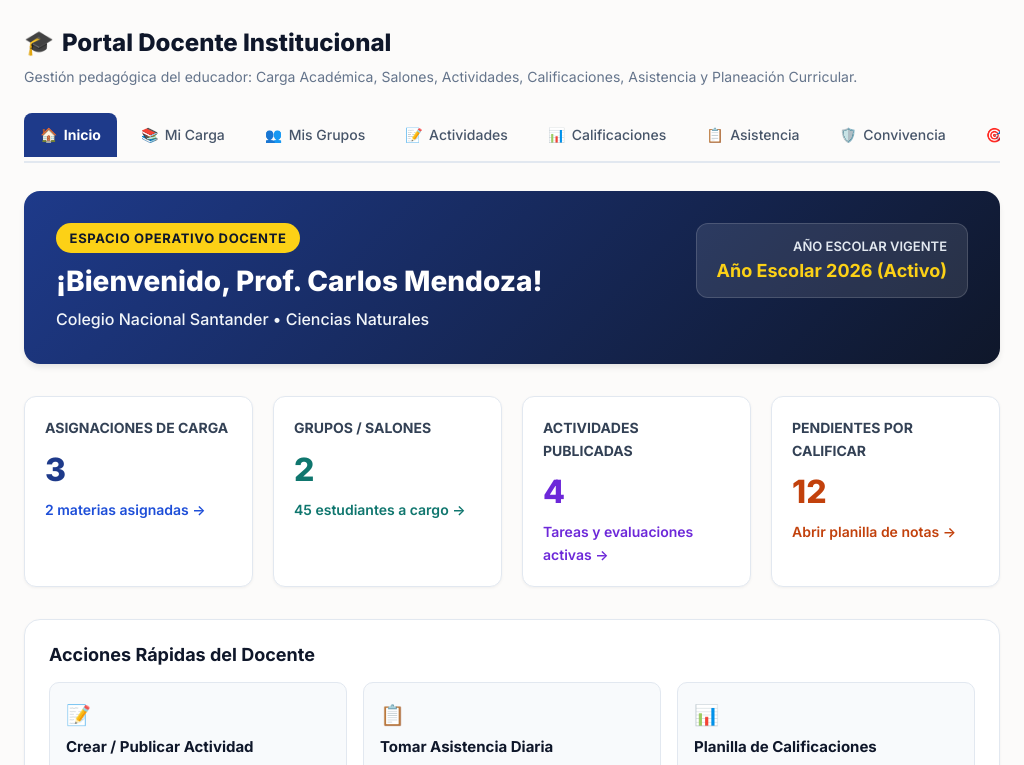
Scenario: TeacherPortal Component Tests › navigates to Mis Grupos and opens official student roster modal
The image size is (1024, 765).
Expected: the heading "¡Bienvenido, Prof. Carlos Mendoza!" is shown, [56, 265, 542, 299]
Click the button "👥 Mis Grupos" at (315, 135), box [249, 113, 381, 157]
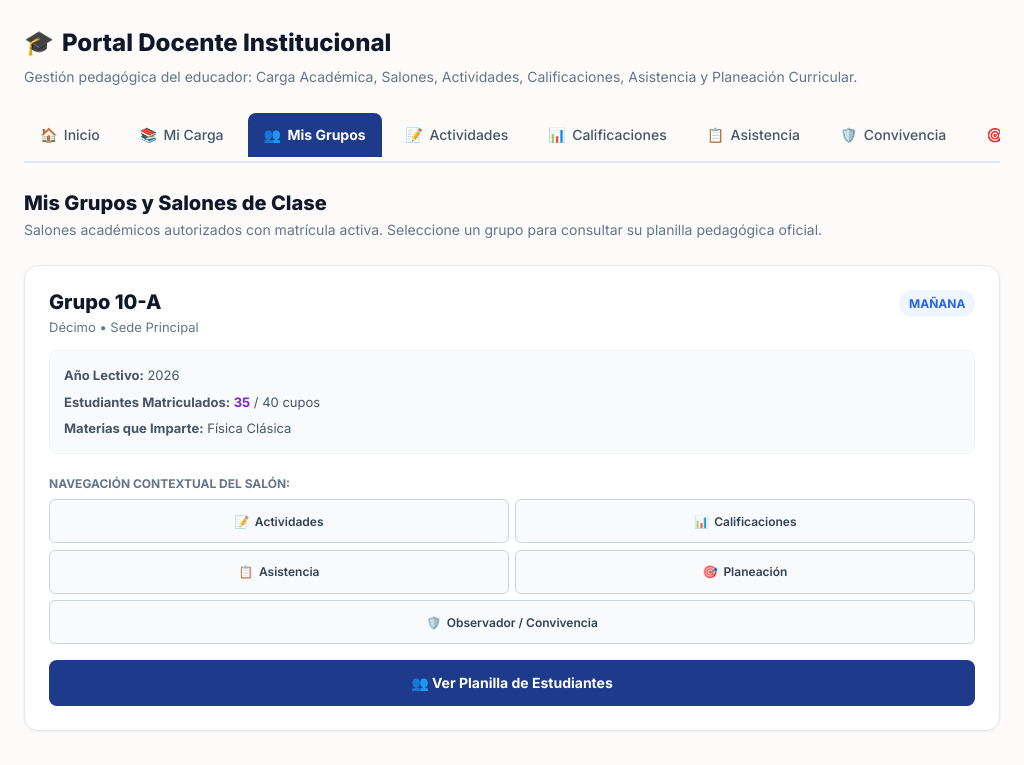
Expected: the heading "Mis Grupos y Salones de Clase" is shown, [24, 191, 327, 215]
Expected: the heading "Grupo 10-A" is shown, [49, 290, 162, 314]
Expected: the button with test id "btn-open-roster" is shown
// Open Roster
Click the button with test id "btn-open-roster" at (512, 683), box [49, 660, 975, 706]
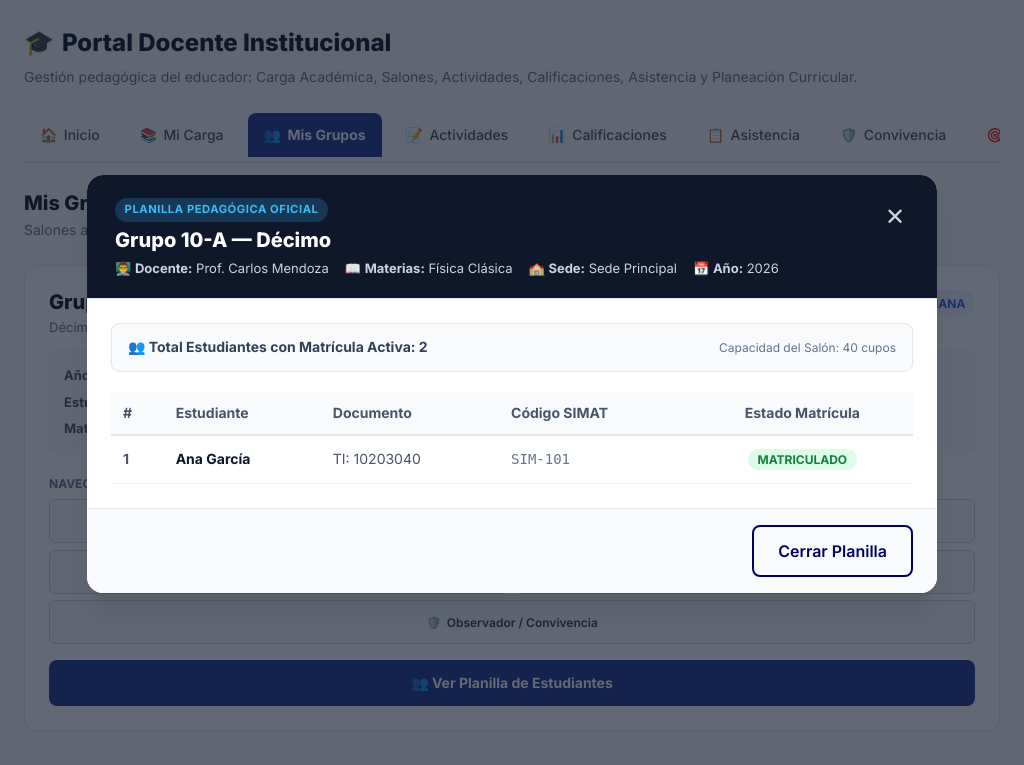
Expected: the text "Planilla Pedagógica Oficial" is shown, [115, 198, 328, 222]
Expected: the text "Ana García" is shown, [164, 435, 321, 483]
Expected: the text "TI: 10203040" is shown, [321, 435, 499, 483]
